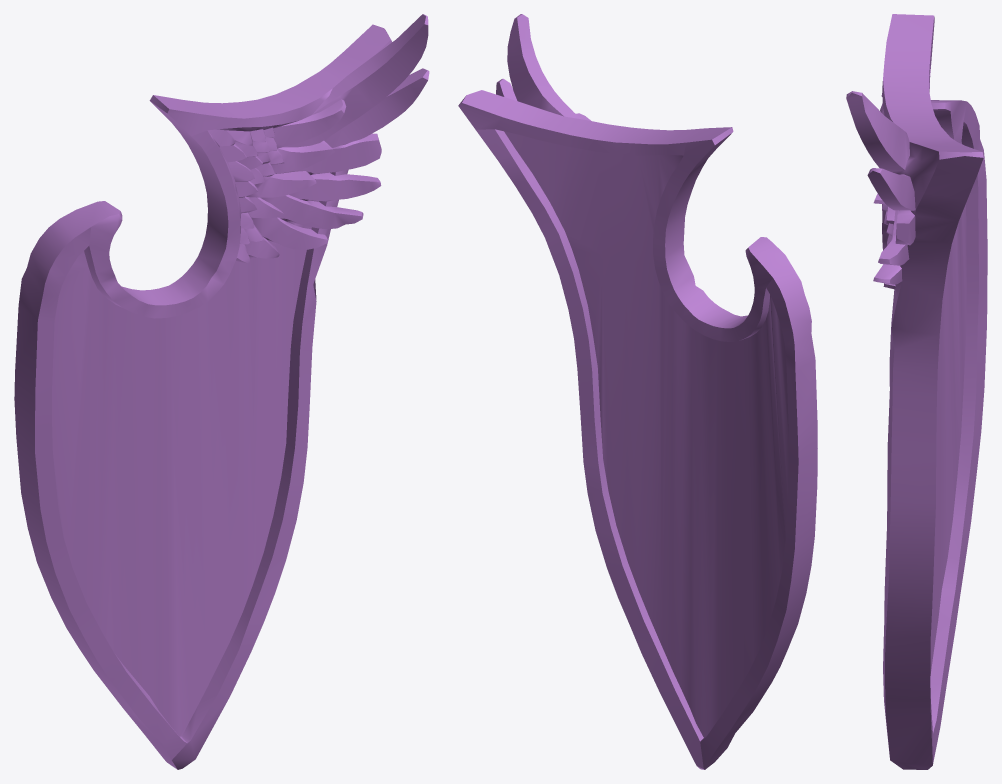
Rendered from SM_Rune_Shield_4.fbx.
3 renders of one model, left to right at view 1: azimuth 30°, elevation 25°; view 2: azimuth 150°, elevation 25°; view 3: azimuth 270°, elevation 25°, orthographic. The views are drawn at different scales.
Parts seen in each view (by area): view 1: SM_Rune_Shield_4; view 2: SM_Rune_Shield_4; view 3: SM_Rune_Shield_4.
Part boxes in pixels (left/top/right/bottom): SM_Rune_Shield_4: left=14, top=14, right=429, bottom=769; SM_Rune_Shield_4: left=458, top=14, right=817, bottom=769; SM_Rune_Shield_4: left=846, top=14, right=987, bottom=769.
Size of the model in its own units: 0.5916 by 1.11 by 0.1773.
